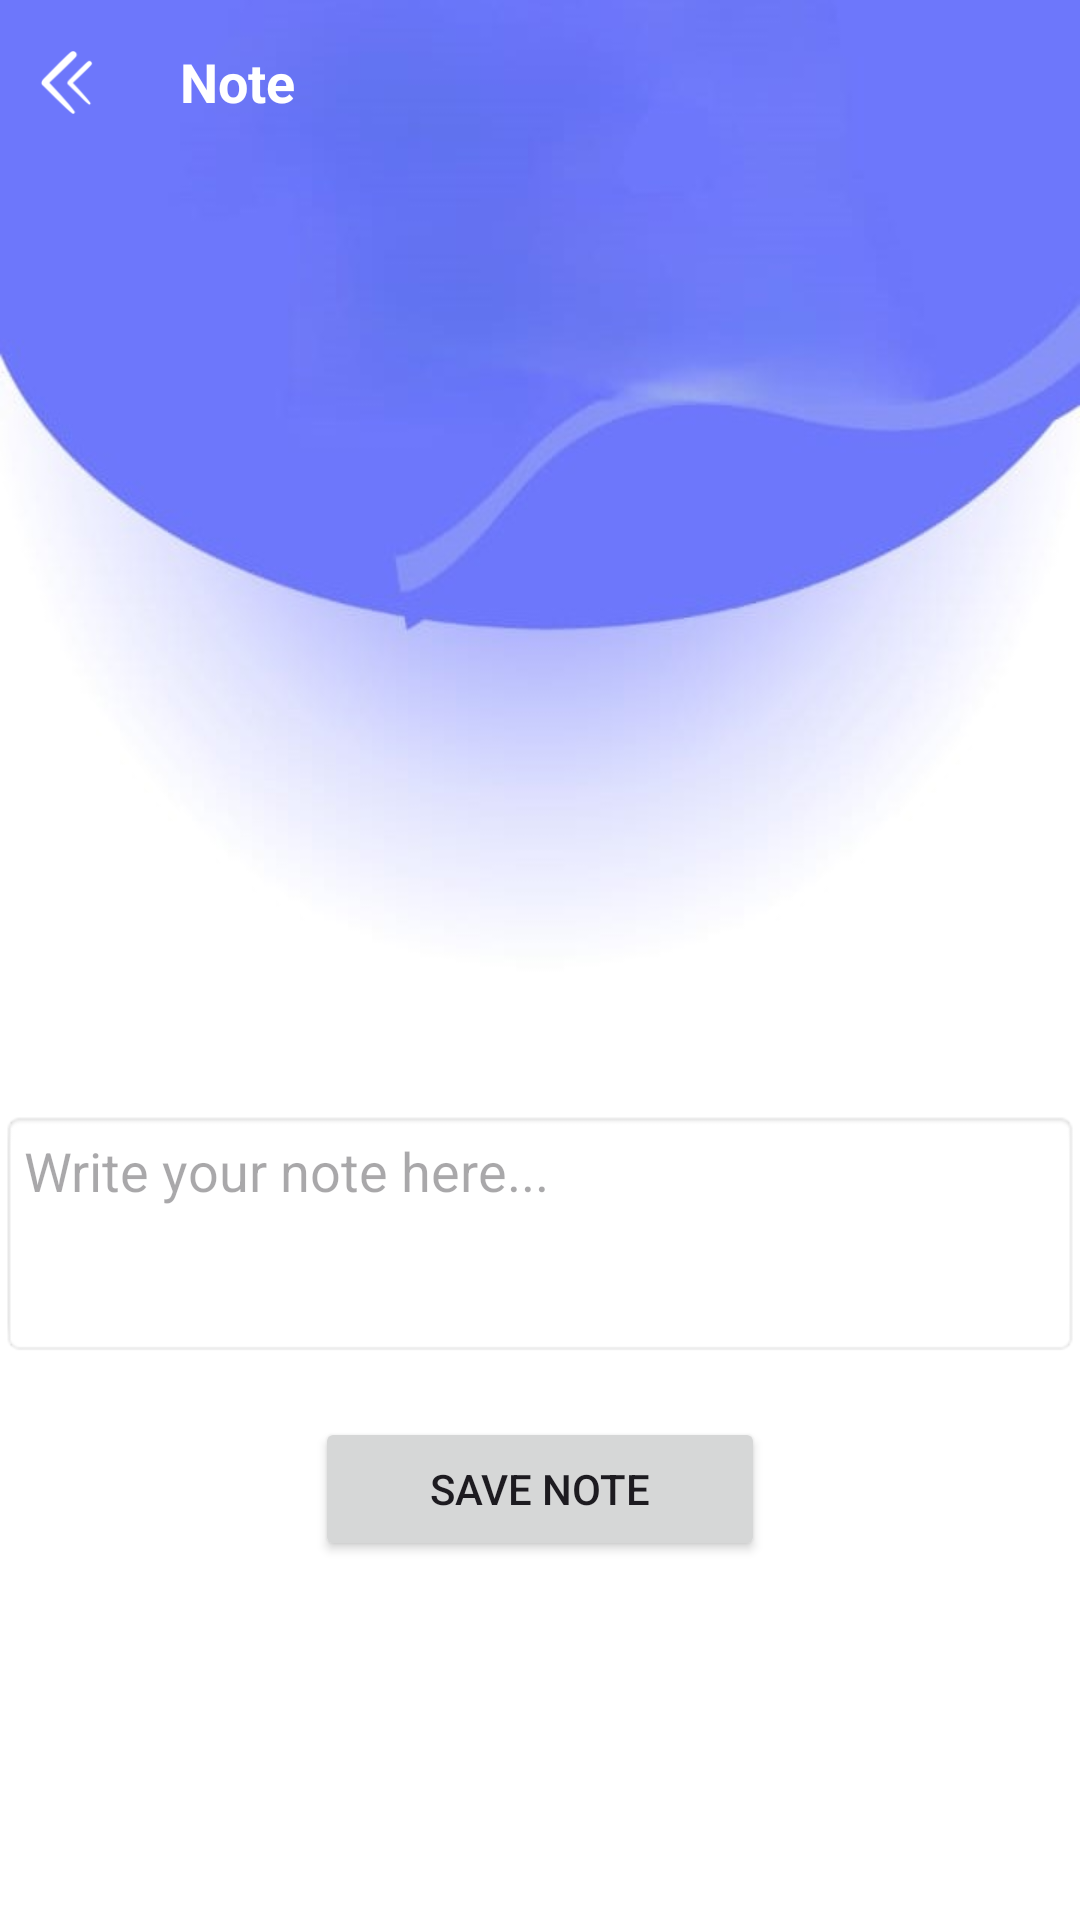

Named icons in this screenshot (1080 × 1920) and their bounding boxes, box=[x1, y1, x2, y2]:
back: box=[41, 51, 92, 114]
